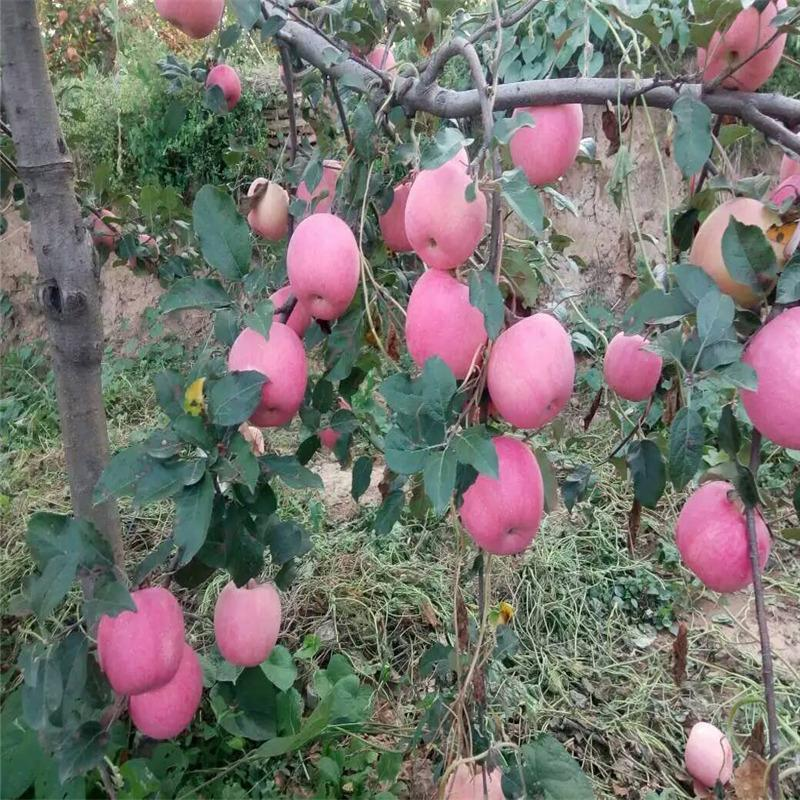apple: (675, 476, 769, 594), (483, 313, 577, 429), (456, 436, 543, 559), (404, 156, 493, 275), (405, 267, 492, 378), (737, 302, 800, 449), (97, 587, 185, 692), (227, 318, 308, 427), (694, 2, 787, 93), (124, 642, 205, 742), (287, 215, 360, 321), (507, 103, 580, 185), (215, 576, 280, 667), (605, 330, 662, 401), (685, 719, 734, 791), (245, 178, 292, 240), (203, 62, 243, 112)
